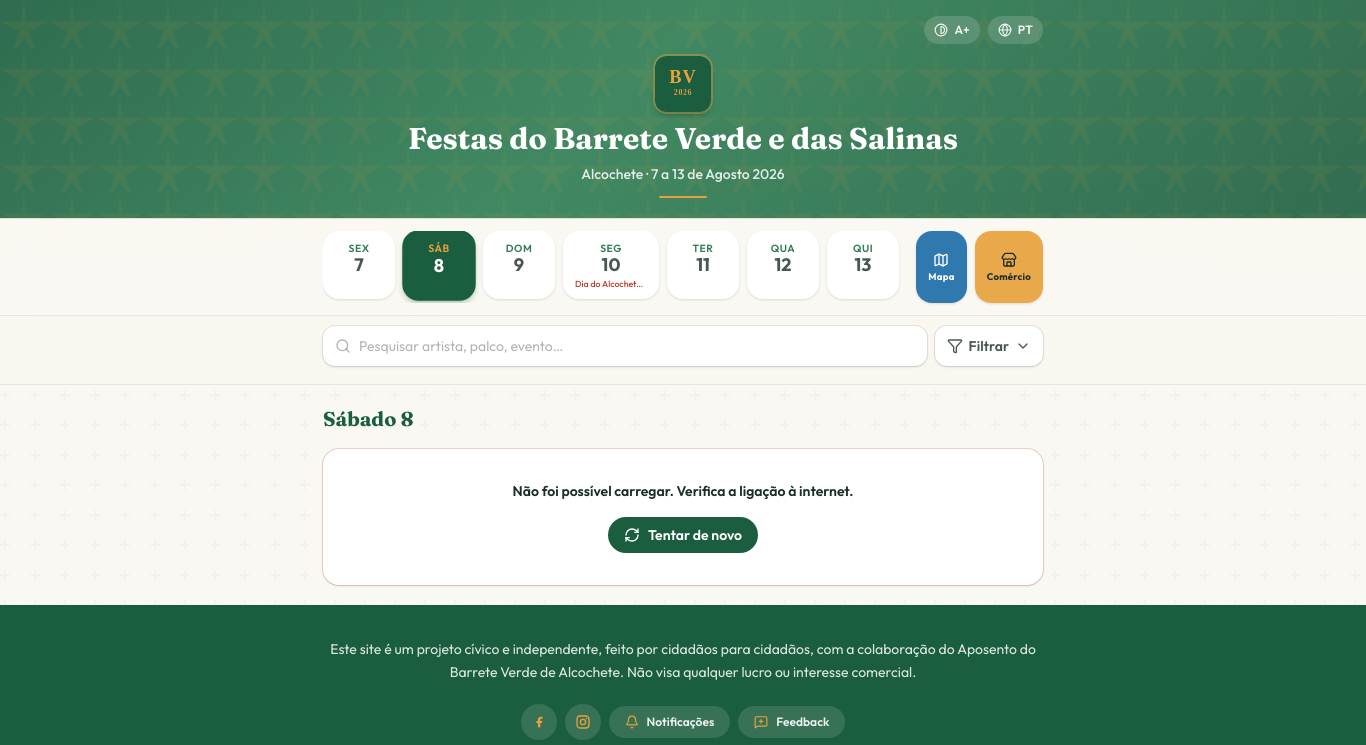
PublicProgram › retries fetch from LoadErrorPanel
Expected: the message "Não foi possível carregar. Verifica a ligação à internet. Tentar de novo" is shown, [323, 449, 1043, 585]
Click the button "Tentar de novo" at x=683, y=535, box [608, 517, 758, 553]
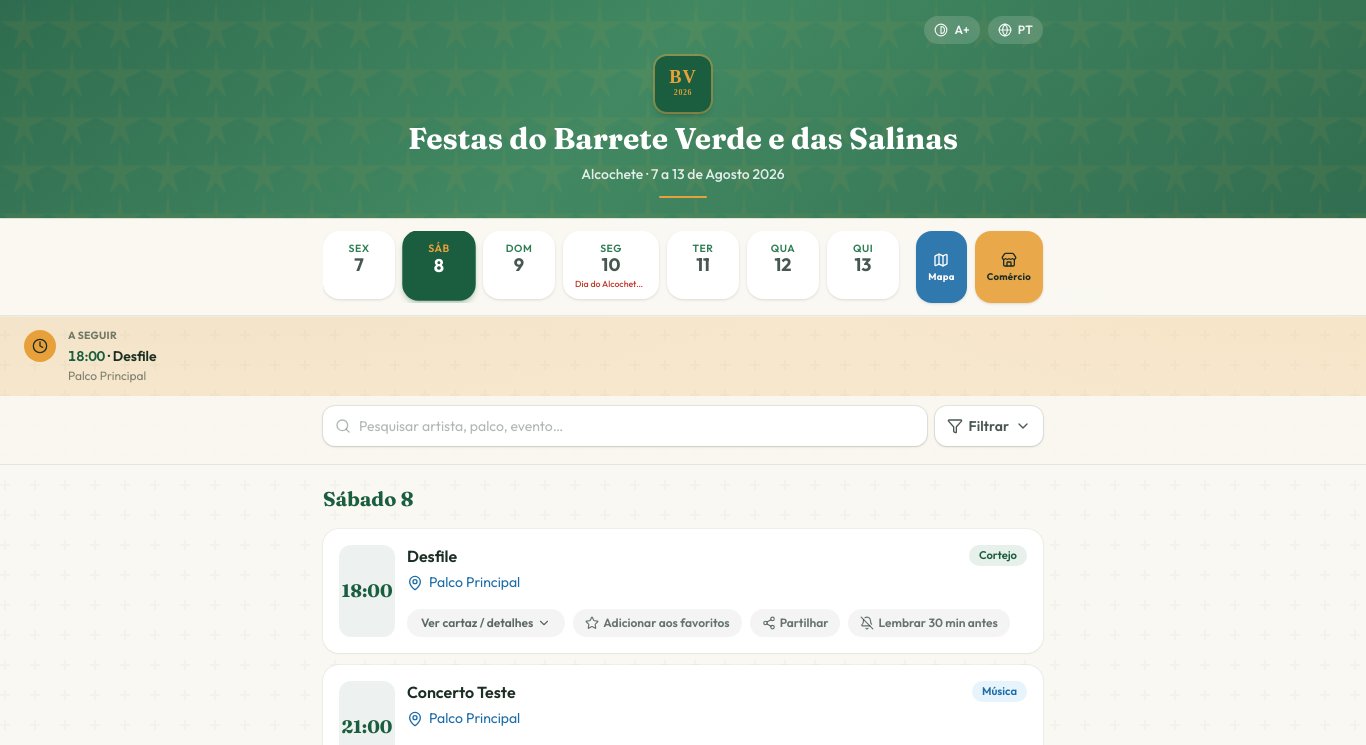
Now the heading "Concerto Teste" is shown, box [407, 682, 516, 702]
